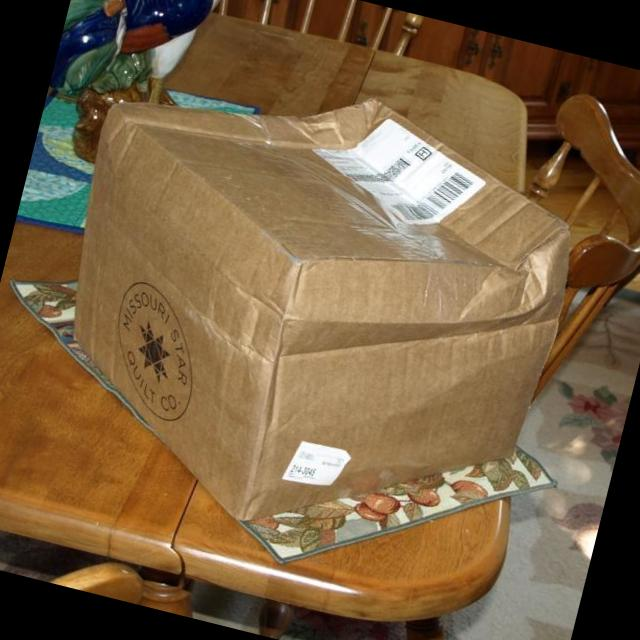crushed: (274, 228, 566, 368), (121, 99, 383, 155)
